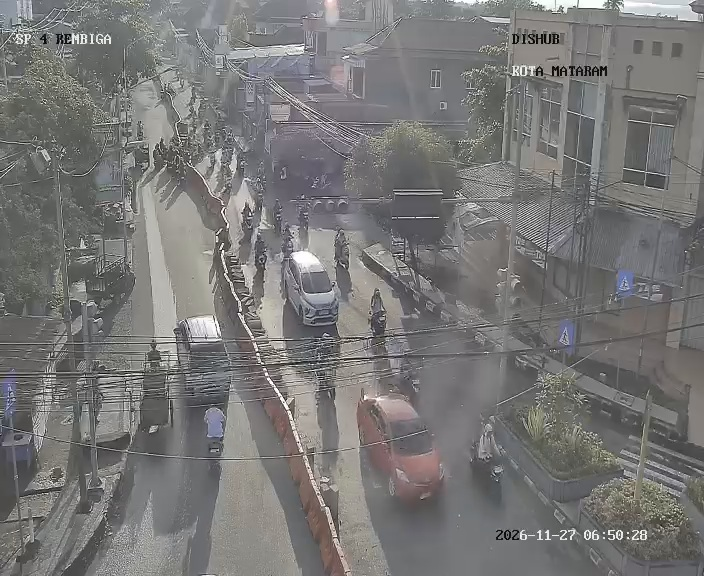Gerobak: (138, 343, 174, 429)
